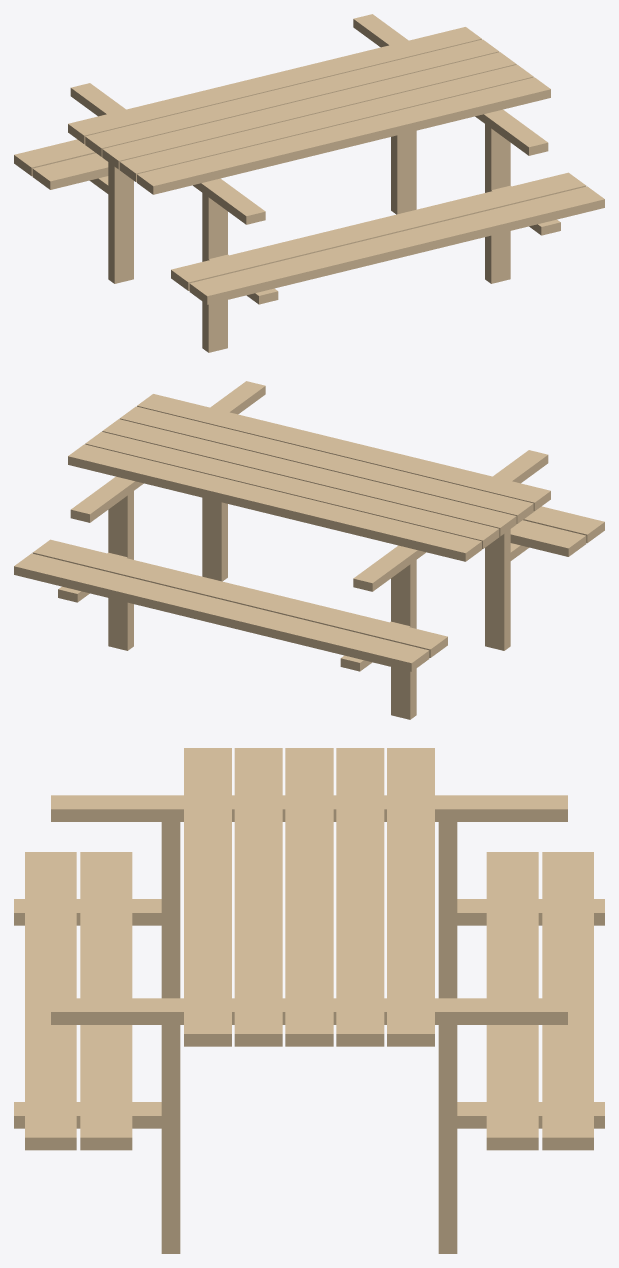
Rendered from picnic_table.glb.
The picture shows the model from 3 angles, top to bottom: view 1: azimuth 30°, elevation 25°; view 2: azimuth 150°, elevation 25°; view 3: azimuth 270°, elevation 25°; orthographic projection. The views are drawn at different scales.
Parts seen in each view (by area): view 1: seat_n2, top_1, seat_n1, top_2, top_5, top_3, top_4, post_np, post_nn, post_pn, beam_n, beam_p (+3 smaller); view 2: seat_p2, top_5, seat_p1, top_1, top_4, top_2, top_3, post_nn, post_np, post_pp, beam_n, beam_p (+3 smaller); view 3: seat_p2, seat_n2, top_2, top_3, top_4, seat_p1, seat_n1, top_1, top_5, beam_n, beam_p, post_pn (+7 smaller).
Part boxes in pixels (bbox=[...]): seat_n2: bbox=[189, 186, 604, 304]; top_1: bbox=[137, 77, 550, 194]; seat_n1: bbox=[171, 172, 586, 290]; top_2: bbox=[119, 64, 533, 182]; top_5: bbox=[68, 27, 481, 144]; top_3: bbox=[102, 52, 516, 169]; top_4: bbox=[85, 39, 499, 156]; post_np: bbox=[108, 162, 133, 283]; post_nn: bbox=[202, 193, 227, 352]; post_pn: bbox=[485, 124, 510, 283]; beam_n: bbox=[70, 83, 265, 224]; beam_p: bbox=[353, 14, 548, 155]; seat_p2: bbox=[14, 553, 429, 671]; top_5: bbox=[68, 444, 481, 561]; seat_p1: bbox=[32, 539, 447, 657]; top_1: bbox=[137, 394, 550, 511]; top_4: bbox=[85, 431, 499, 549]; top_2: bbox=[119, 406, 533, 523]; top_3: bbox=[102, 419, 516, 536]; post_nn: bbox=[485, 529, 510, 650]; post_np: bbox=[391, 560, 416, 719]; post_pp: bbox=[108, 491, 133, 650]; beam_n: bbox=[353, 450, 548, 591]; beam_p: bbox=[70, 381, 265, 522]; seat_p2: bbox=[542, 852, 593, 1150]; seat_n2: bbox=[25, 852, 76, 1150]; top_2: bbox=[234, 748, 282, 1046]; top_3: bbox=[285, 748, 333, 1046]; top_4: bbox=[336, 748, 384, 1046]; seat_p1: bbox=[486, 852, 538, 1150]; seat_n1: bbox=[80, 852, 132, 1150]; top_1: bbox=[184, 748, 231, 1046]; top_5: bbox=[387, 748, 434, 1046]; beam_n: bbox=[51, 795, 567, 821]; beam_p: bbox=[51, 998, 567, 1024]; post_pn: bbox=[161, 1025, 180, 1253].
Bounding box in the file's own units: 1.83 × 0.76 × 1.6.
